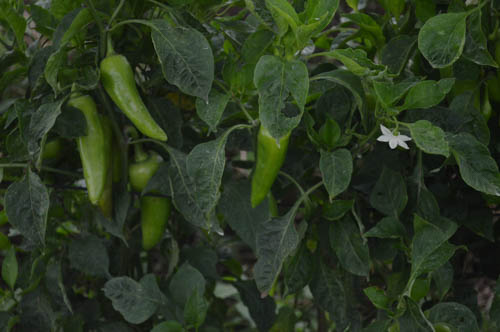ChiliPepper: (101, 58, 165, 140), (130, 153, 170, 251), (66, 100, 100, 201), (248, 124, 291, 203), (95, 121, 112, 222)
